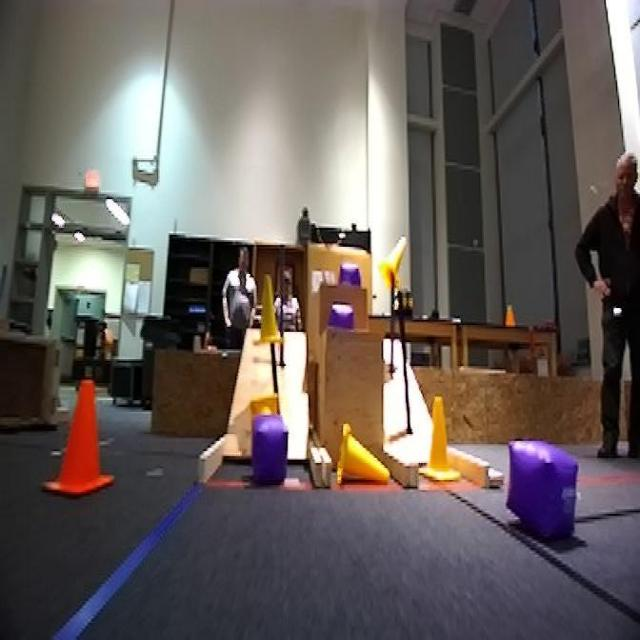frc_cone: (424, 402, 463, 488), (337, 424, 386, 482), (255, 284, 283, 347), (380, 240, 406, 291), (249, 402, 280, 431)
frc_cube: (512, 441, 579, 541), (252, 424, 288, 485), (332, 308, 354, 332), (343, 262, 361, 284)
